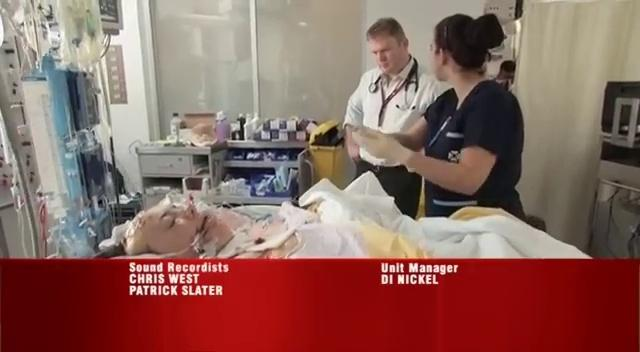doctor: (340, 15, 446, 218)
nurse: (351, 12, 526, 221)
patient: (98, 189, 594, 260)
